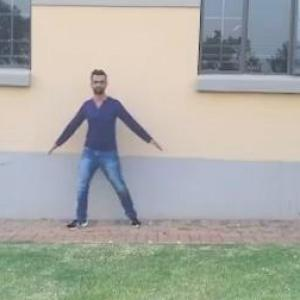land: (50, 74, 163, 246)
